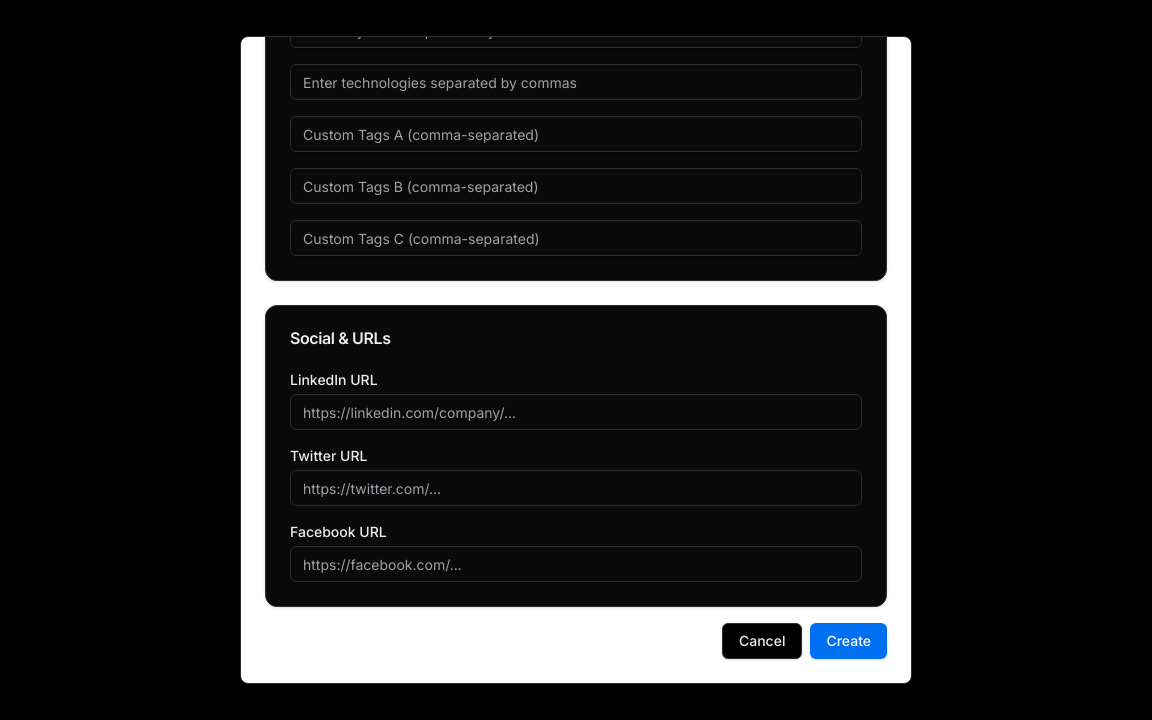
Test case: CompanyForm › shows error message when name is missing
This screenshot has width=1152, height=720.
(page scrolled)
Click the button "Create".
click(849, 641)  # box x1=810 y1=623 x2=887 y2=659
(page scrolled)
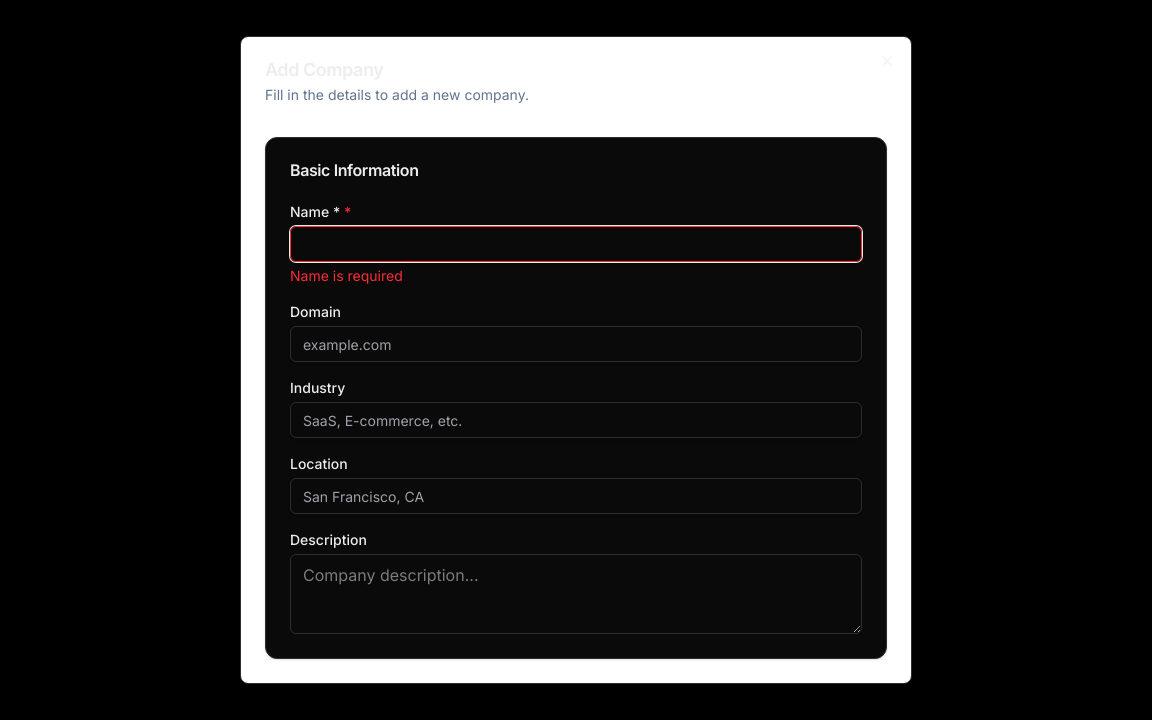
Check: the text "Name is required" is shown, box x1=290 y1=267 x2=403 y2=284
